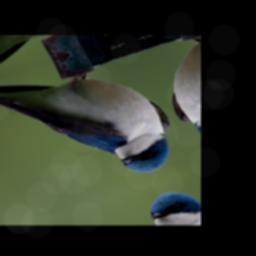Swallow: (0, 37, 191, 213)
